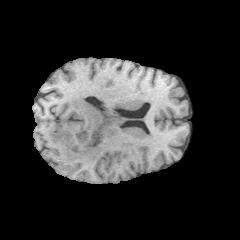glioma: (49, 97, 116, 162)
